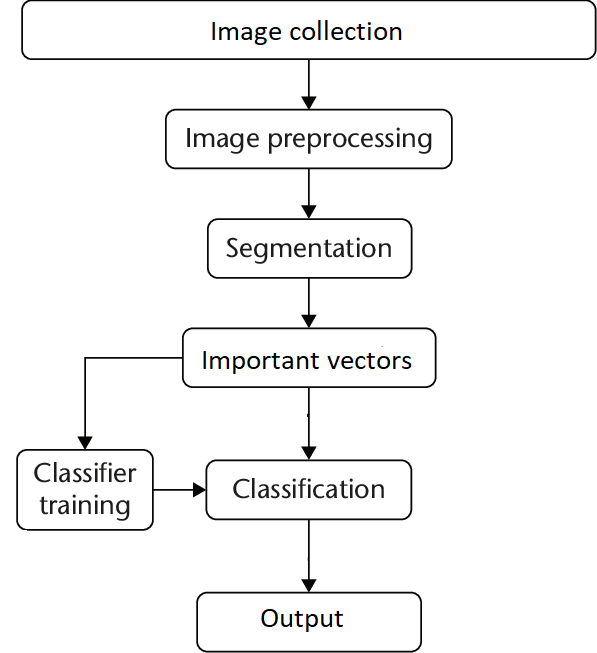arrow: (75, 353, 180, 449), (300, 386, 316, 460), (152, 481, 208, 502), (301, 521, 315, 592), (298, 277, 317, 329), (298, 166, 317, 217), (300, 57, 316, 110)
process: (17, 1, 597, 65), (162, 105, 456, 172), (180, 324, 439, 391), (193, 589, 425, 653), (204, 215, 416, 283), (203, 457, 414, 523), (13, 446, 154, 534)
text: (183, 124, 435, 157), (28, 459, 139, 523), (208, 15, 402, 46), (225, 233, 393, 264), (229, 474, 389, 502), (199, 349, 415, 369), (258, 606, 345, 633)
